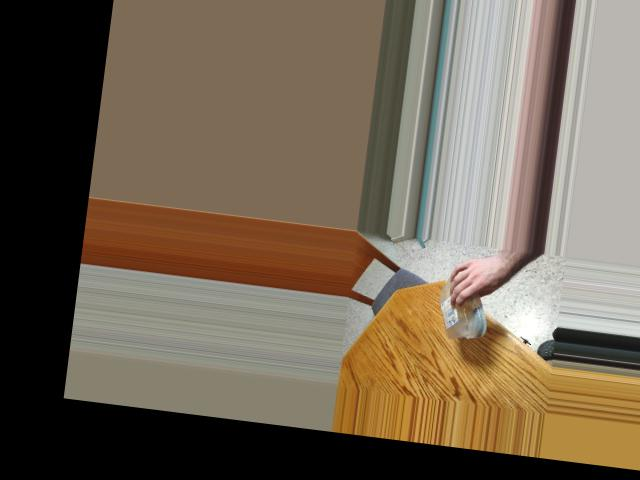cheese: (434, 277, 488, 338)
